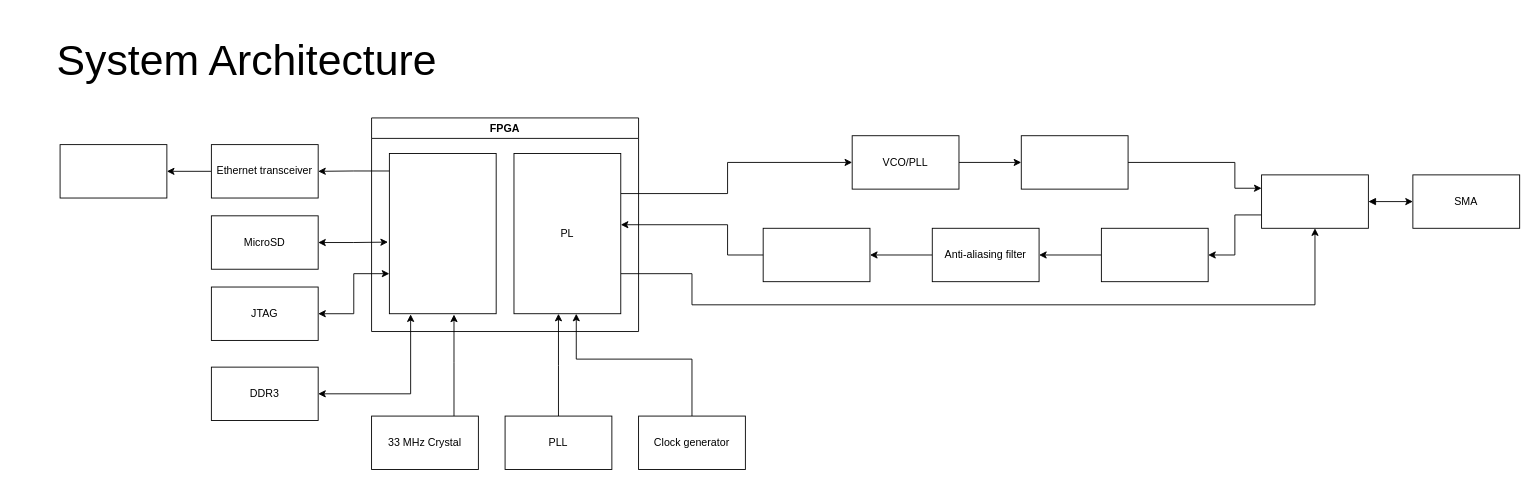
The diagram is 1535 pixels wide and 485 high, and some of its shapes have lost their labels. The shapes that lost their labels are listed below. From the top down, each one's centre as x and y in pixels, then its label:
pixel 113 171: Ethernet
pixel 1074 162: PA
pixel 1314 201: RF Switch
pixel 442 233: PS
pixel 816 254: ADC
pixel 1154 254: LNA
